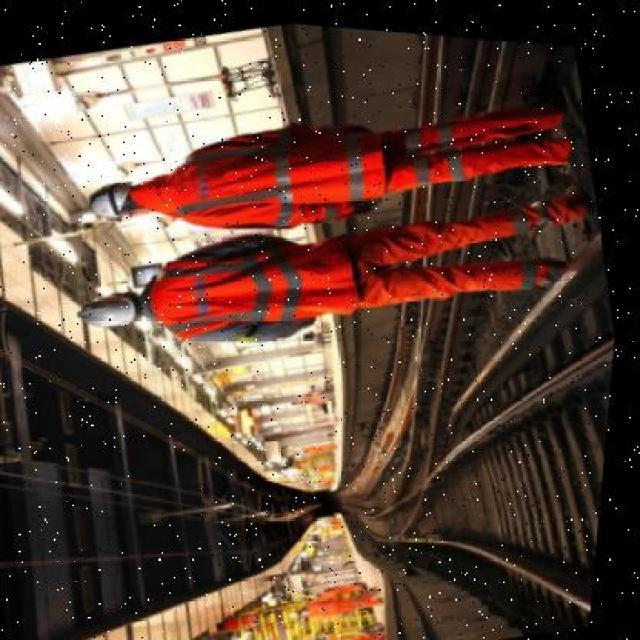helmet: (71, 274, 166, 343), (86, 173, 151, 226)
vest: (114, 85, 405, 259), (138, 203, 380, 369)
